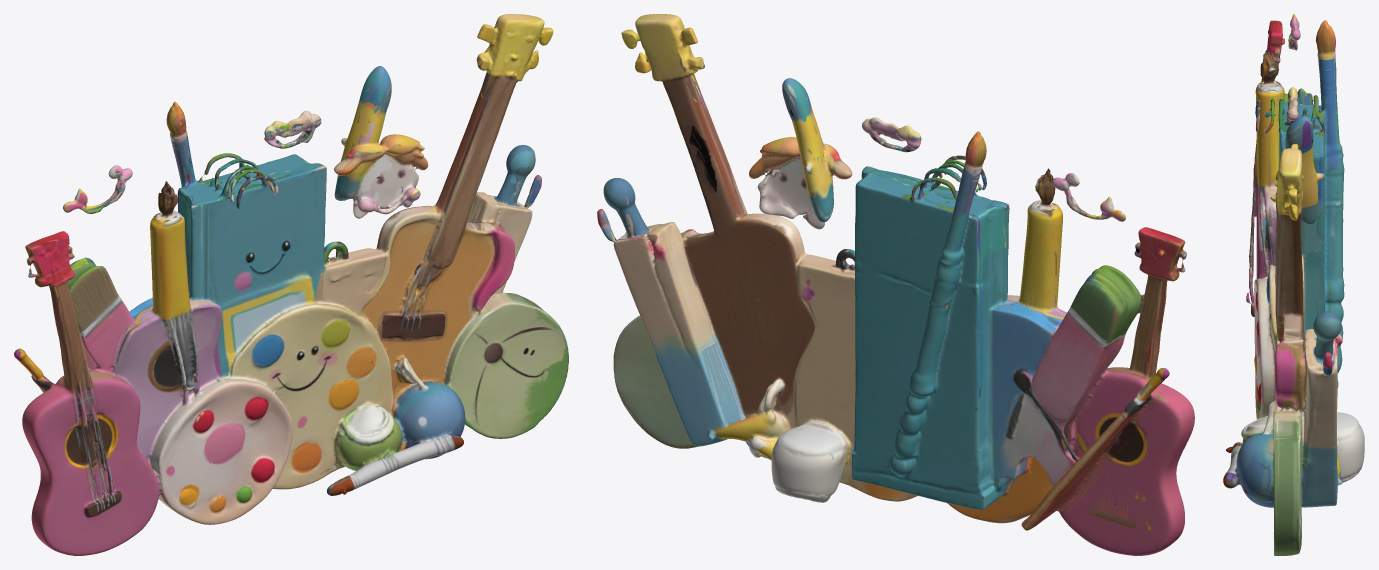
File: hobby.glb
The picture shows the model from 3 angles, left to right: view 1: azimuth 30°, elevation 25°; view 2: azimuth 150°, elevation 25°; view 3: azimuth 270°, elevation 25°; orthographic projection. The views are drawn at different scales.
Bounding box in the file's own units: 65527 × 48367 × 15174.
1 material, 1 textured.
